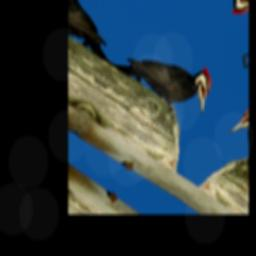Woodpecker: (107, 17, 223, 133)
